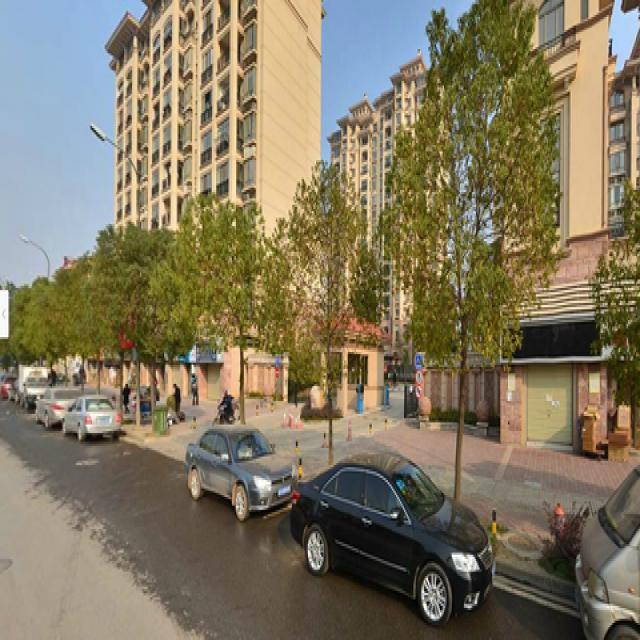cinn: (399, 23, 536, 476), (283, 201, 372, 444), (192, 226, 268, 446)
